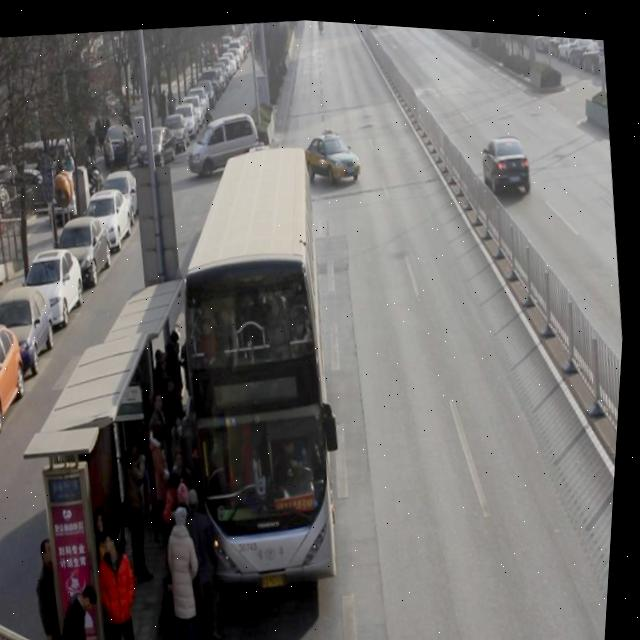car: (480, 124, 536, 195), (301, 124, 365, 185)
truck: (184, 106, 268, 181)
van: (154, 137, 360, 589)
